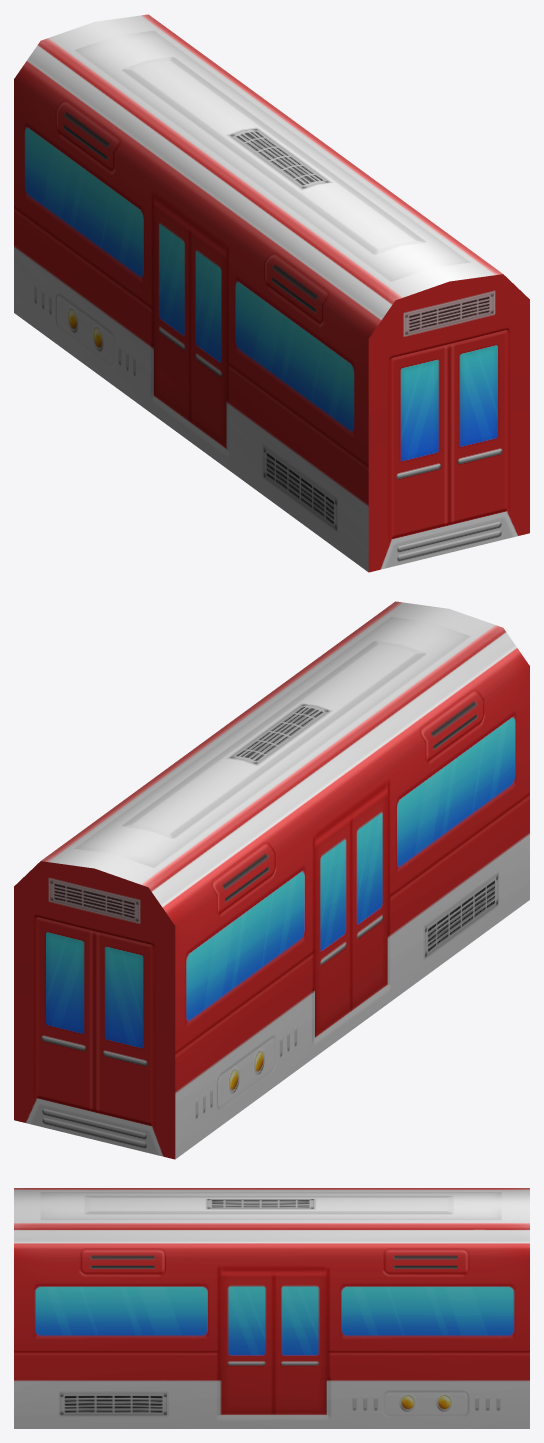
File: Train_Red.fbx
3 renders of one model, top to bottom at view 1: azimuth 30°, elevation 25°; view 2: azimuth 150°, elevation 25°; view 3: azimuth 270°, elevation 25°, orthographic. The views are drawn at different scales.
Parts seen in each view (by area): view 1: Train_Red; view 2: Train_Red; view 3: Train_Red.
Boxes of the visible parts, <box> form: Train_Red: <box>14,14,529,572</box>; Train_Red: <box>14,601,529,1159</box>; Train_Red: <box>14,1188,529,1428</box>.
Size of the model in its own units: 482 by 775 by 1838.
